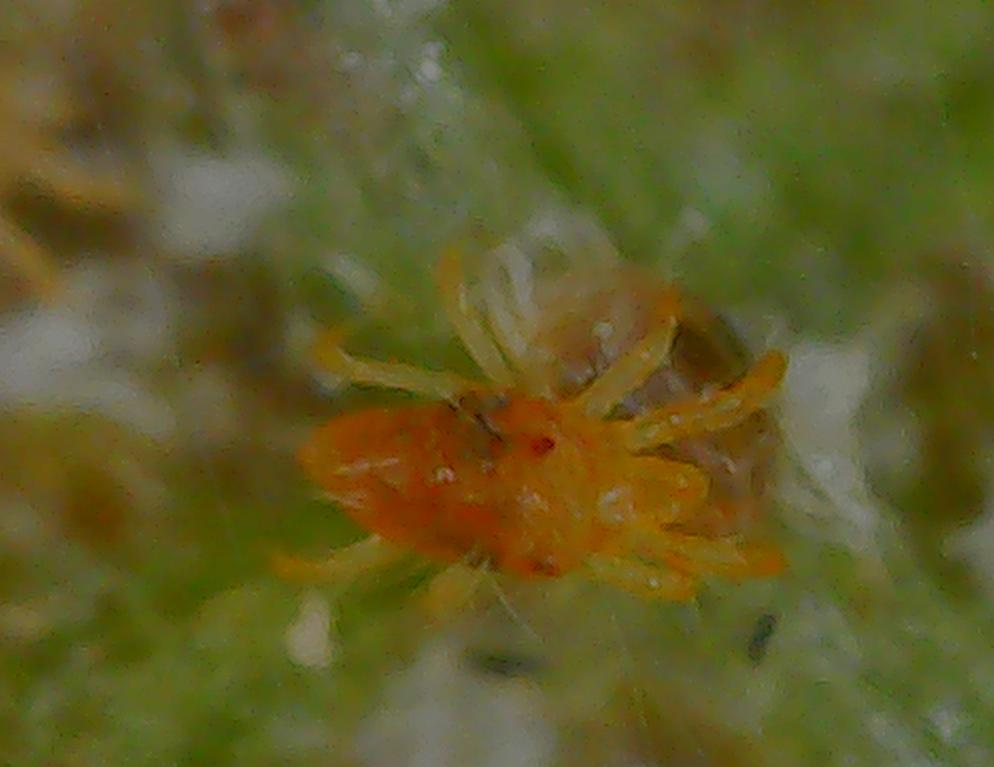tiny_pests: (212, 191, 852, 721)
